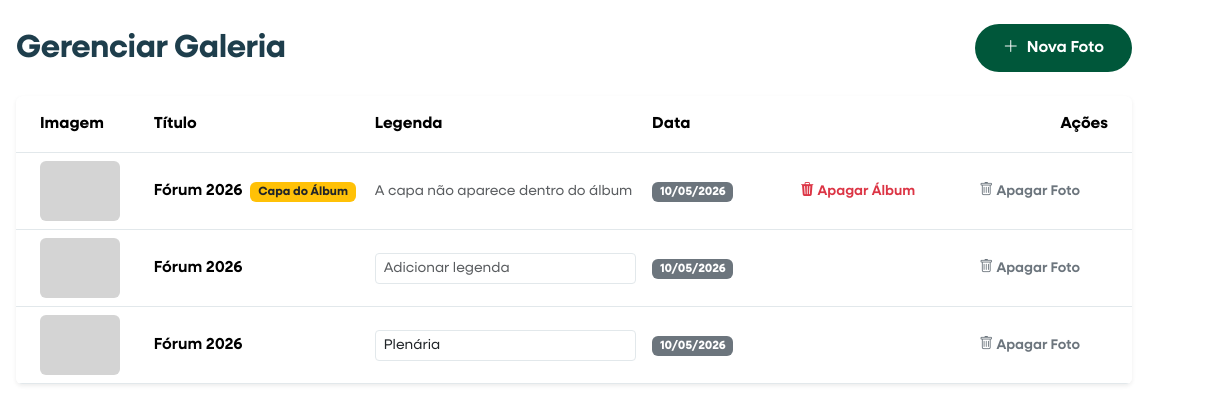
it: GalleryList — legenda das fotos › mostra o erro do servidor quando não consegue salvar
This screenshot has width=1214, height=403.
Type "x" into the field named "Legenda da foto 2".
click(505, 268); type("x")  # box [375,252,636,284]
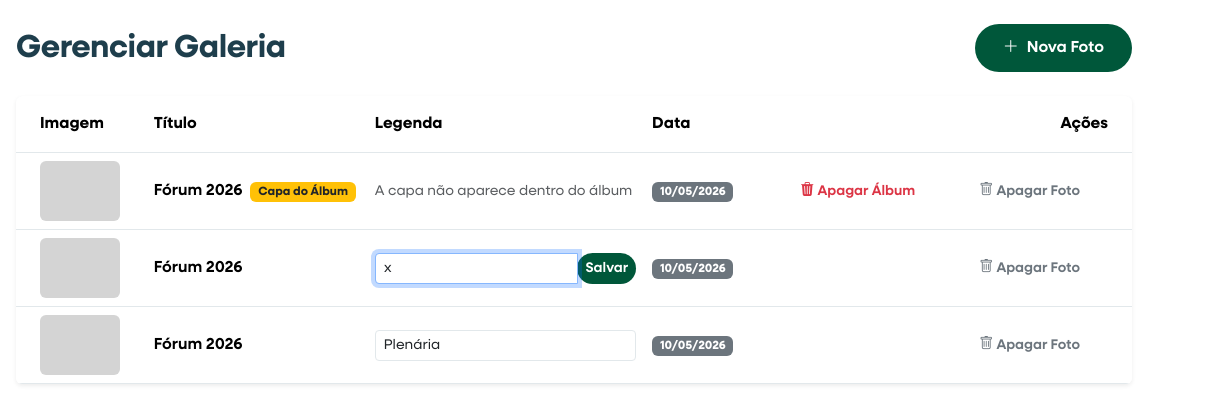
Click the button "Salvar".
click(607, 268)  # box [577,252,636,284]
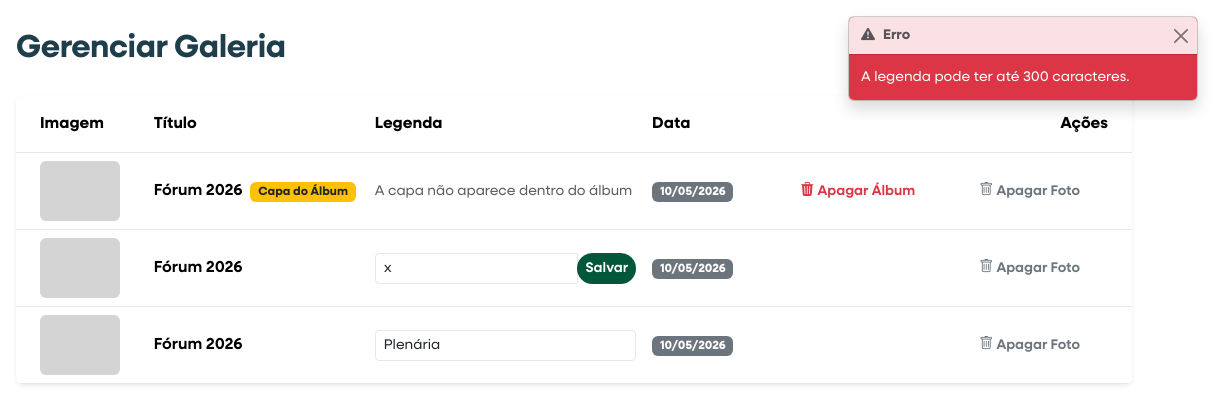
Check: the text "A legenda pode ter até 300 caracteres." is shown, box [861,70,1130,84]
